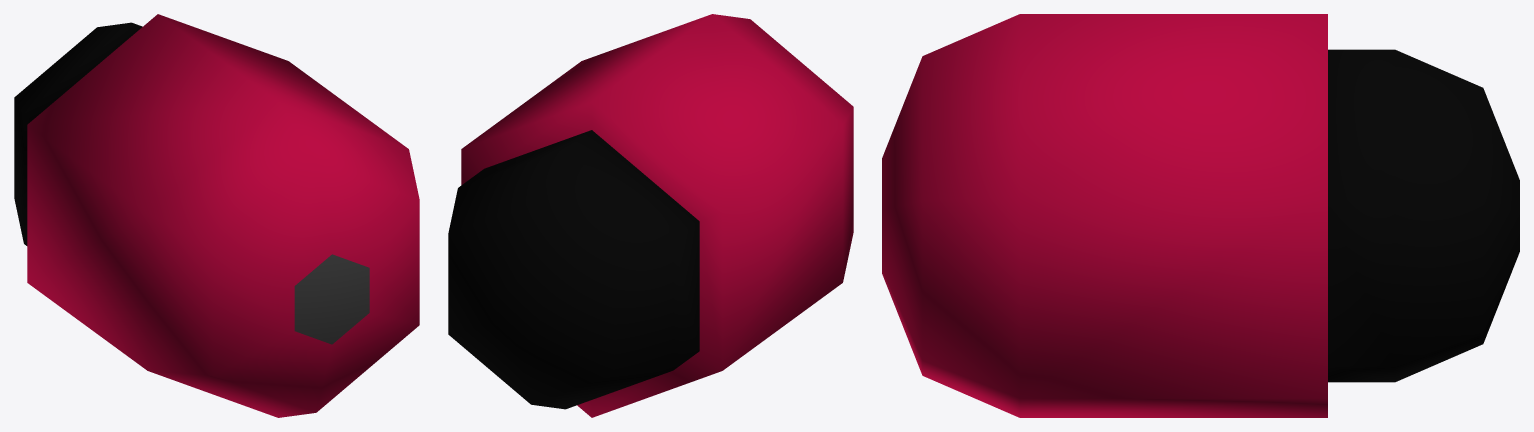
File: TurretProjectile.fbx
3 views of the same model, side by side, from view 1: azimuth 30°, elevation 25°; view 2: azimuth 150°, elevation 25°; view 3: azimuth 270°, elevation 25° (orthographic). The views are drawn at different scales.
Visible parts, largest first — view 1: Cylinder; view 2: Cylinder; view 3: Cylinder.
Part boxes in pixels (x1=…): Cylinder: x1=14, y1=14, x2=419, y2=417; Cylinder: x1=448, y1=14, x2=853, y2=417; Cylinder: x1=882, y1=14, x2=1519, y2=417.
Bounding box in the file's own units: 173 × 200 × 286.
